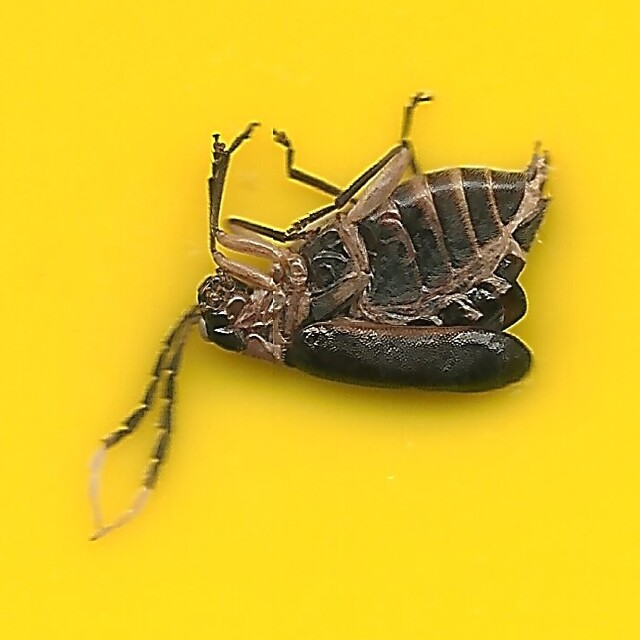Coleoptera: (90, 99, 550, 541)
